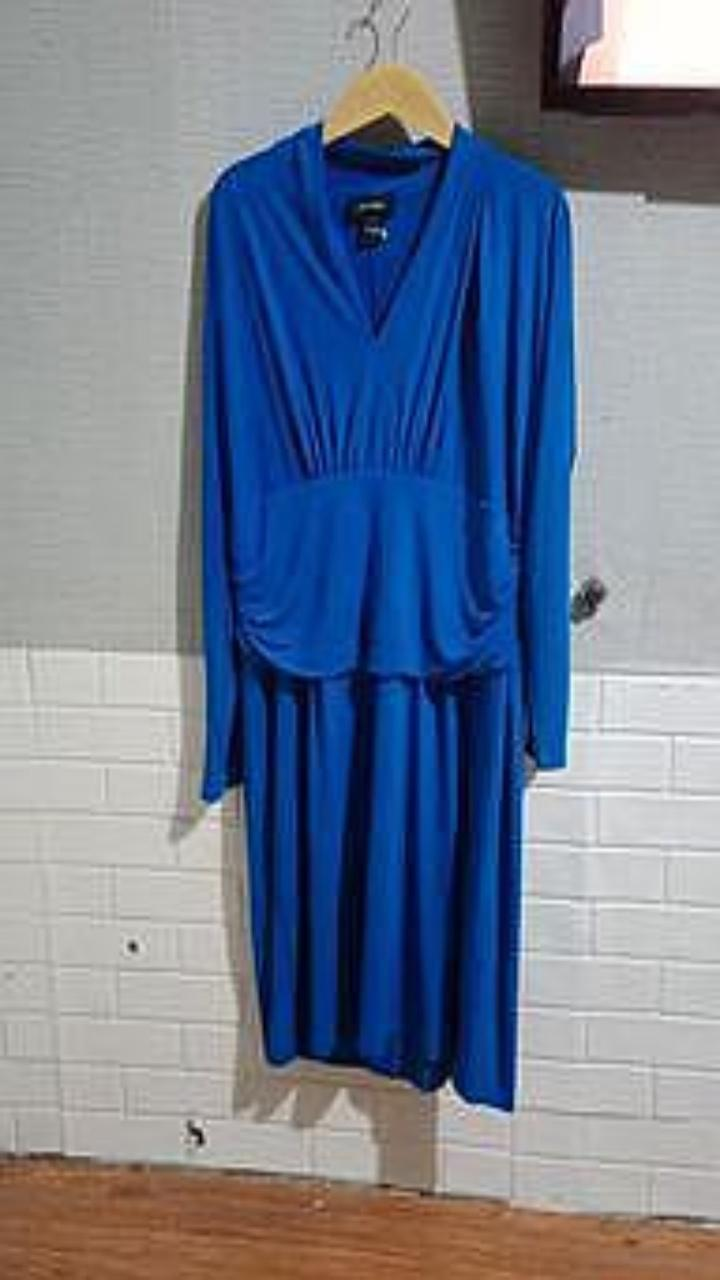Dresses: (202, 120, 575, 1109)
